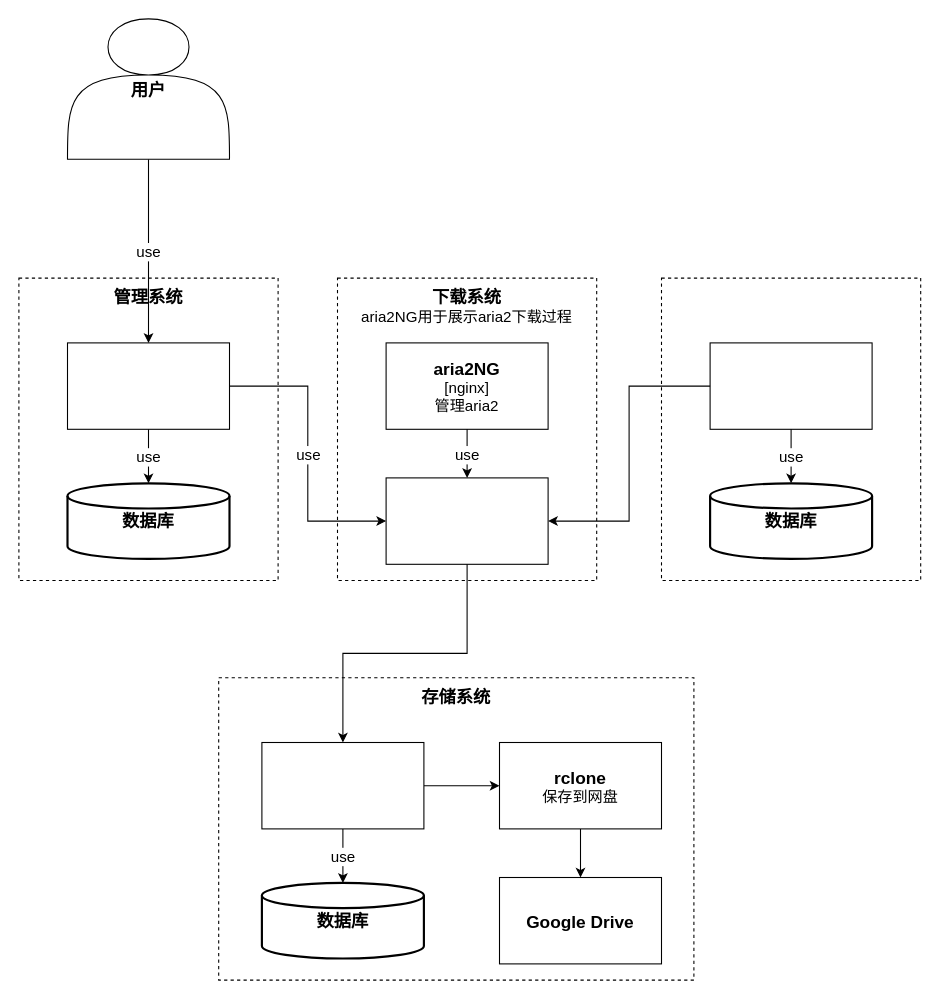
This 940x999 diagram has some shape labels left out. Here are the shapes that lost their labels. From the top down, the box of each, then its label:
(66, 342, 230, 429): web应用程序 [java and springboot] 查看，新建下载
(709, 342, 872, 429): 爬虫应用程序 [python] 定时抓取网上数据
(660, 277, 921, 580): 爬虫系统
(385, 477, 548, 564): aria2 下载
(261, 741, 424, 829): 数据处理应用程序 [python] 处理下载后的内容
